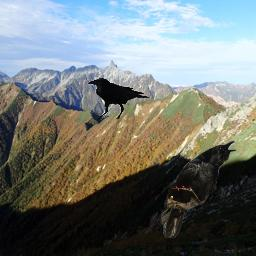Crow: (160, 139, 238, 238), (87, 78, 151, 120)
